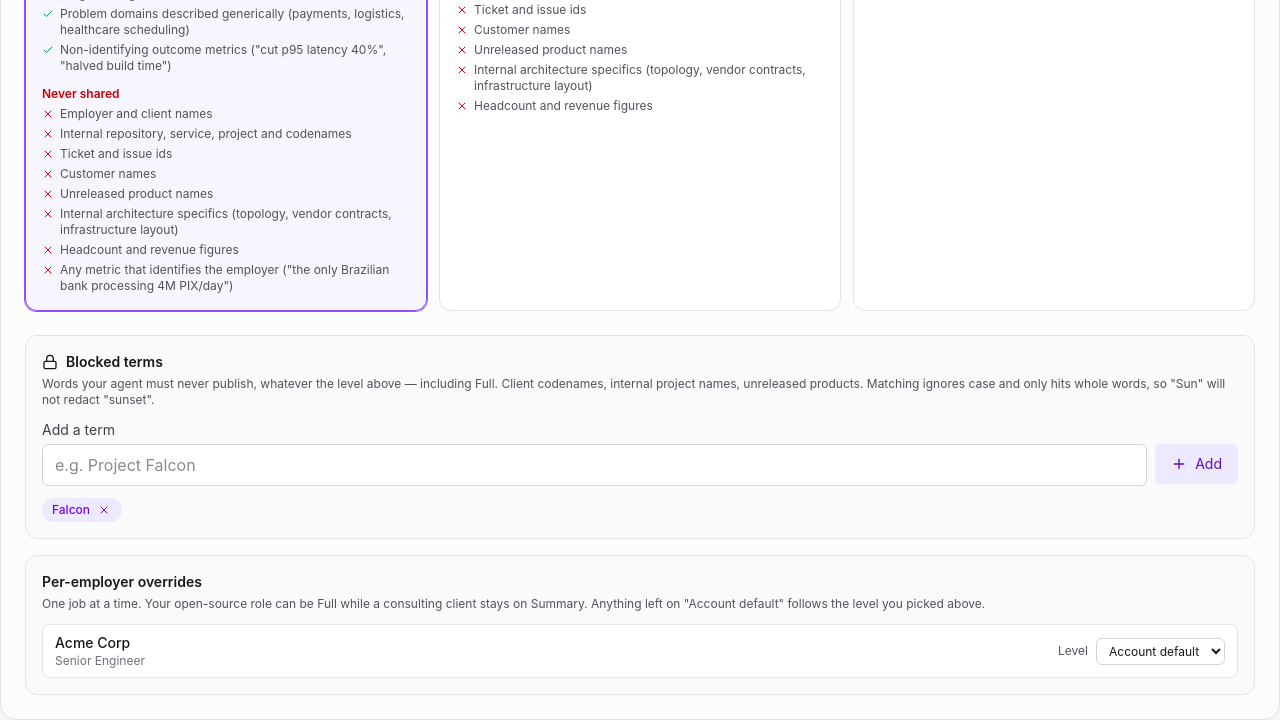
Test: DisclosurePanel › rejects a duplicate term case-insensitively — the server collapses them
This screenshot has width=1280, height=720.
(page scrolled)
Type "falcon" into the field labelled "Add a term".
click(595, 465); type("falcon")  # box [42,444,1147,486]
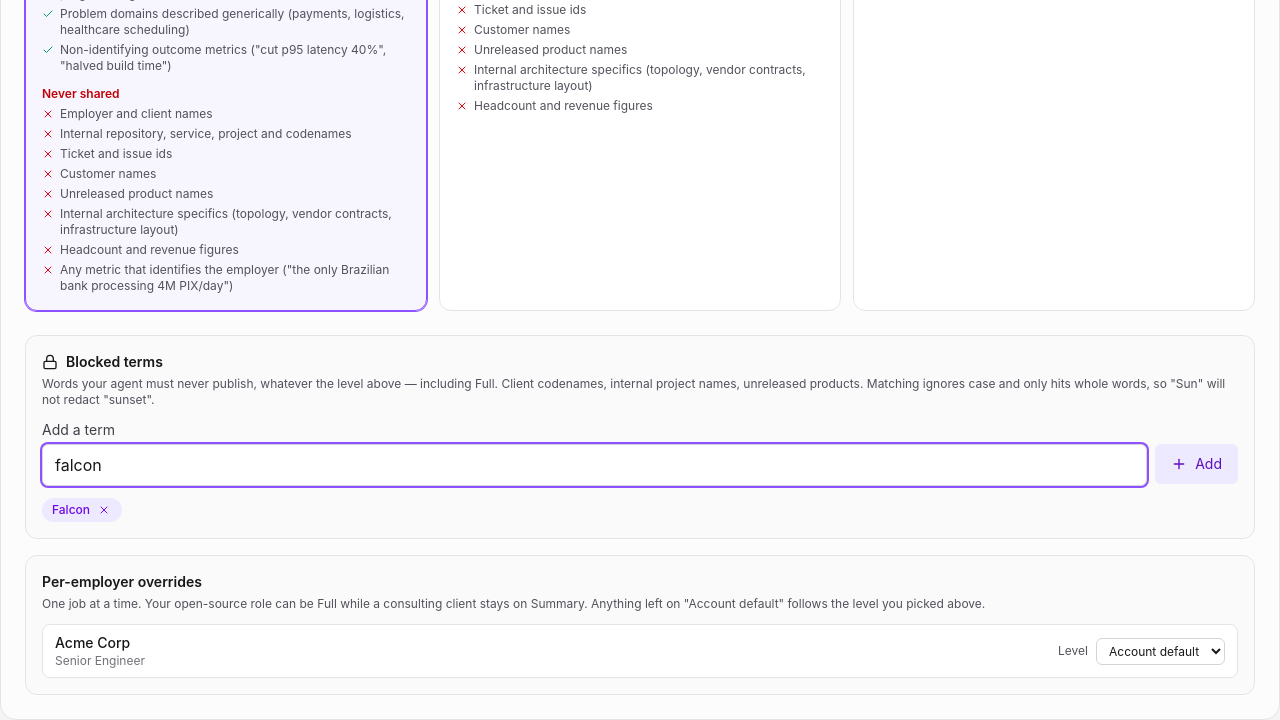
Click the button "Add".
click(1197, 464)  # box [1155,444,1238,484]
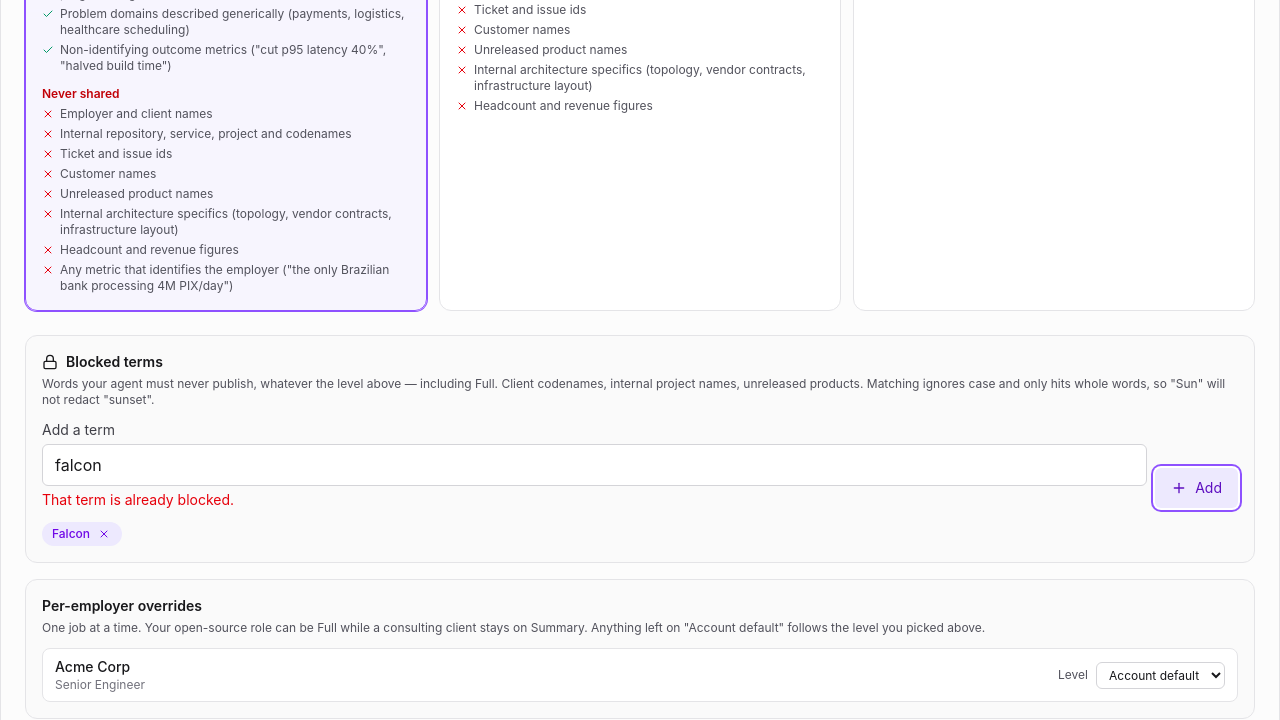
Now the text "That term is already blocked." is shown, box [42,491,234,508]
